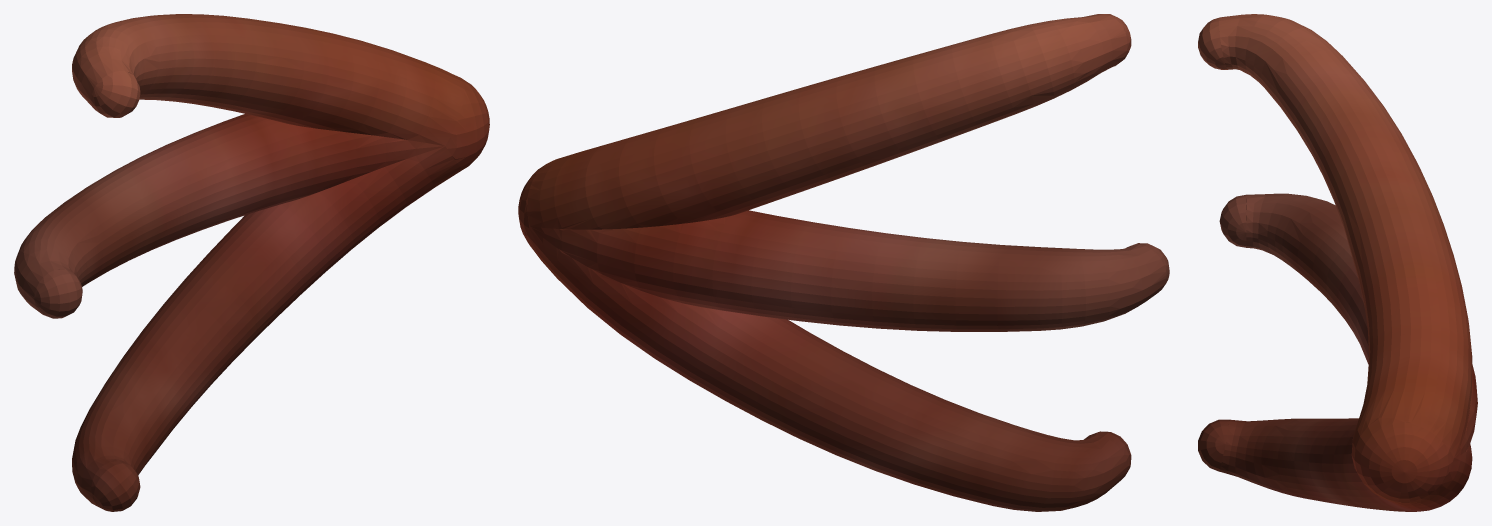
Rendered from fingers_texture.dae.
3 renders of one model, left to right at view 1: azimuth 30°, elevation 25°; view 2: azimuth 150°, elevation 25°; view 3: azimuth 270°, elevation 25°, orthographic. The views are drawn at different scales.
Visible parts, largest first — view 1: SketchUp; view 2: SketchUp; view 3: SketchUp.
Part boxes in pixels (x1,y1,x2,y2): SketchUp: [14, 14, 489, 511]; SketchUp: [518, 14, 1169, 511]; SketchUp: [1198, 14, 1477, 511].
Bounding box in the file's own units: 1.38 × 0.6213 × 1.14.
1 material, 1 textured.
